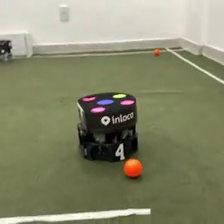ball: (122, 157, 144, 178), (153, 47, 161, 55)
robot: (74, 90, 142, 162), (1, 39, 13, 62)
